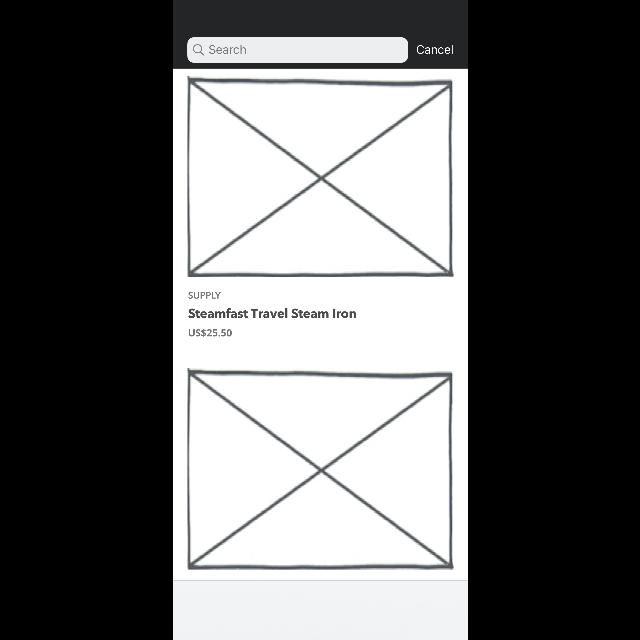icon: (192, 44, 204, 56)
image: (186, 75, 454, 278), (185, 368, 452, 570)
input: (186, 37, 408, 63)
text: (188, 308, 356, 318), (416, 45, 452, 55), (188, 329, 232, 337), (208, 46, 246, 54), (188, 292, 220, 298)
